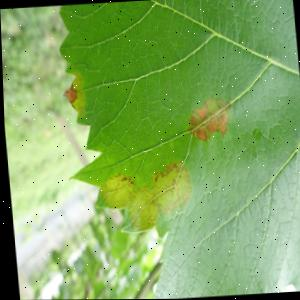Folha: (51, 0, 300, 300)
Fungo: (112, 159, 192, 233), (184, 96, 230, 142), (89, 171, 135, 211), (59, 72, 84, 117), (60, 82, 76, 103)
